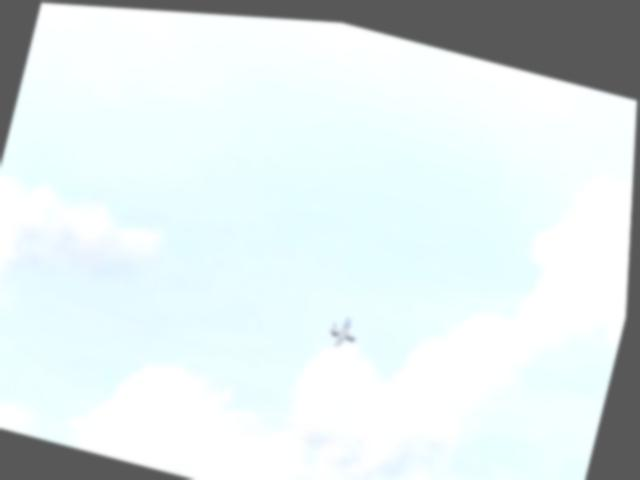uav: (321, 299, 373, 356)
